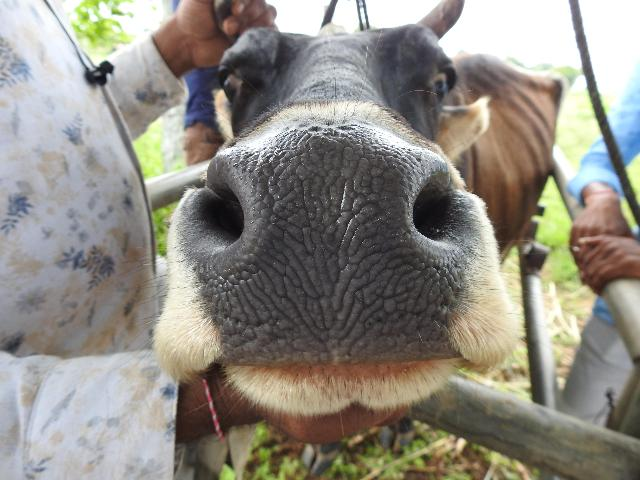Muzzle: (222, 146, 432, 356)
